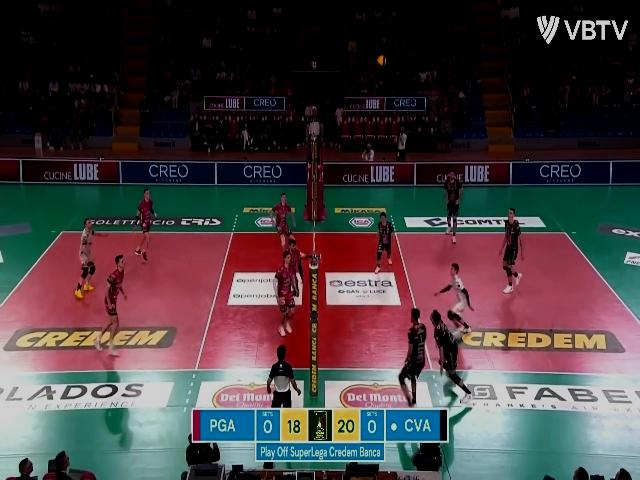volleyball court: (0, 228, 638, 374)
